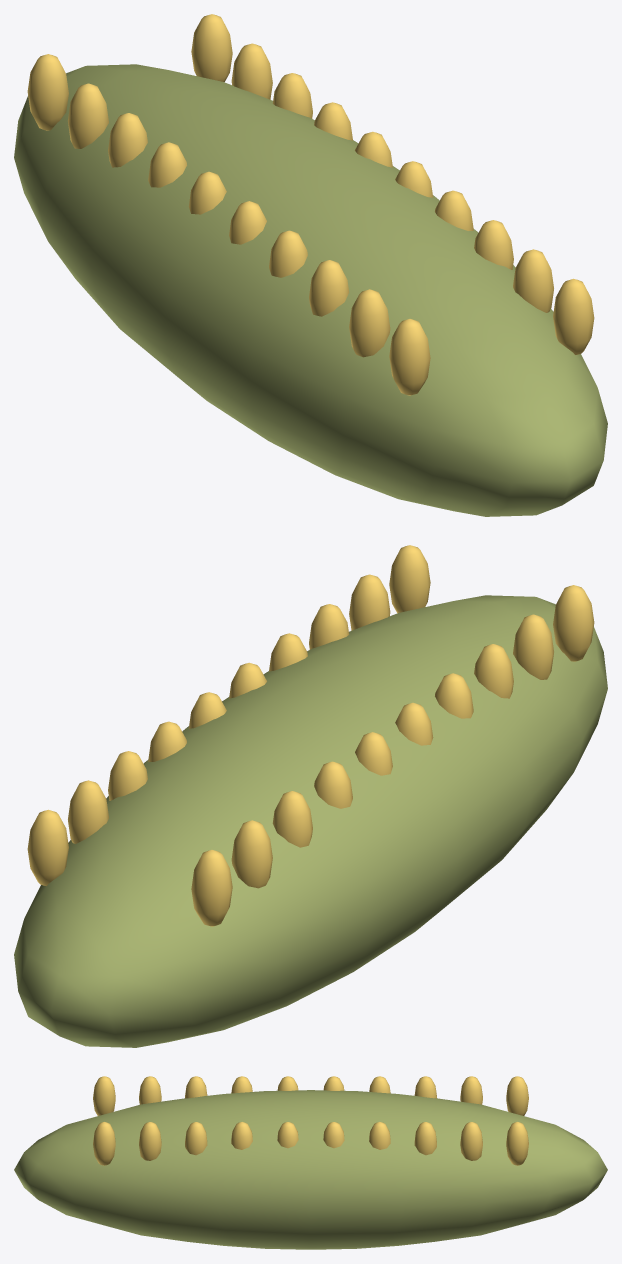
File: underwater-reef-worlds-sea-cucumber-8921002a__7031.glb
The picture shows the model from 3 angles, top to bottom: view 1: azimuth 30°, elevation 25°; view 2: azimuth 150°, elevation 25°; view 3: azimuth 270°, elevation 25°; orthographic projection. The views are drawn at different scales.
Parts seen in each view (by area): view 1: sea-cucumber; view 2: sea-cucumber; view 3: sea-cucumber.
Boxes of the visible parts, x1,y1,x2,y2 form: sea-cucumber: (14,14,607,516); sea-cucumber: (14,545,607,1047); sea-cucumber: (14,1076,607,1249).
Bounding box in the file's own units: 0.36 × 0.285 × 1.1.
